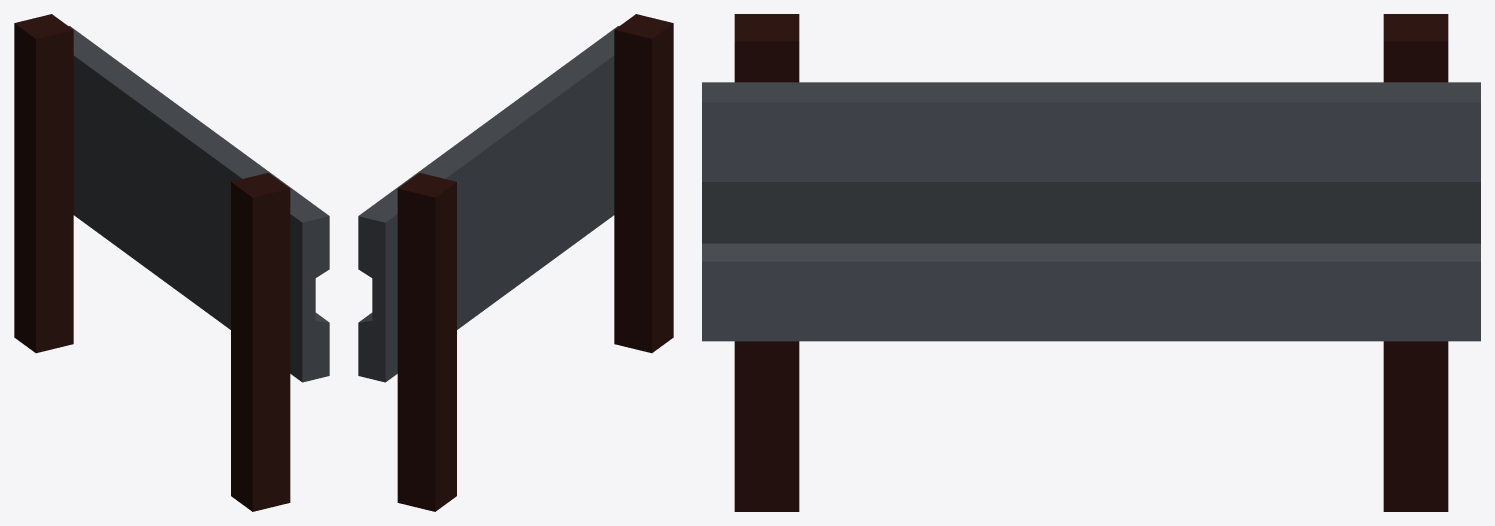
Rendered from SM_Barriers_21.fbx.
3 views of the same model, side by side, from view 1: azimuth 30°, elevation 25°; view 2: azimuth 150°, elevation 25°; view 3: azimuth 270°, elevation 25° (orthographic). The views are drawn at different scales.
Visible parts, largest first — view 1: SM_Barriers_21; view 2: SM_Barriers_21; view 3: SM_Barriers_21.
Boxes of the visible parts, bbox=[...] form: SM_Barriers_21: bbox=[14, 14, 329, 511]; SM_Barriers_21: bbox=[358, 14, 673, 511]; SM_Barriers_21: bbox=[702, 14, 1480, 511].
Bounding box in the file's own units: 17.62 × 80 × 120.
